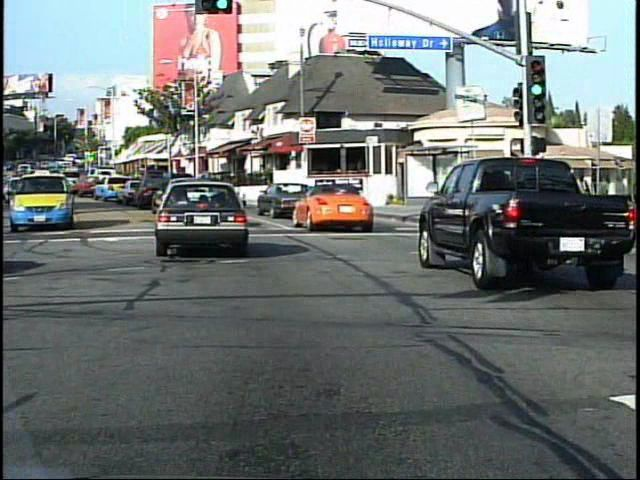person: (590, 185, 612, 254)
